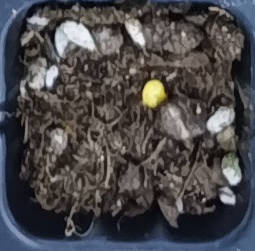pepper seed: (57, 24, 225, 132)
